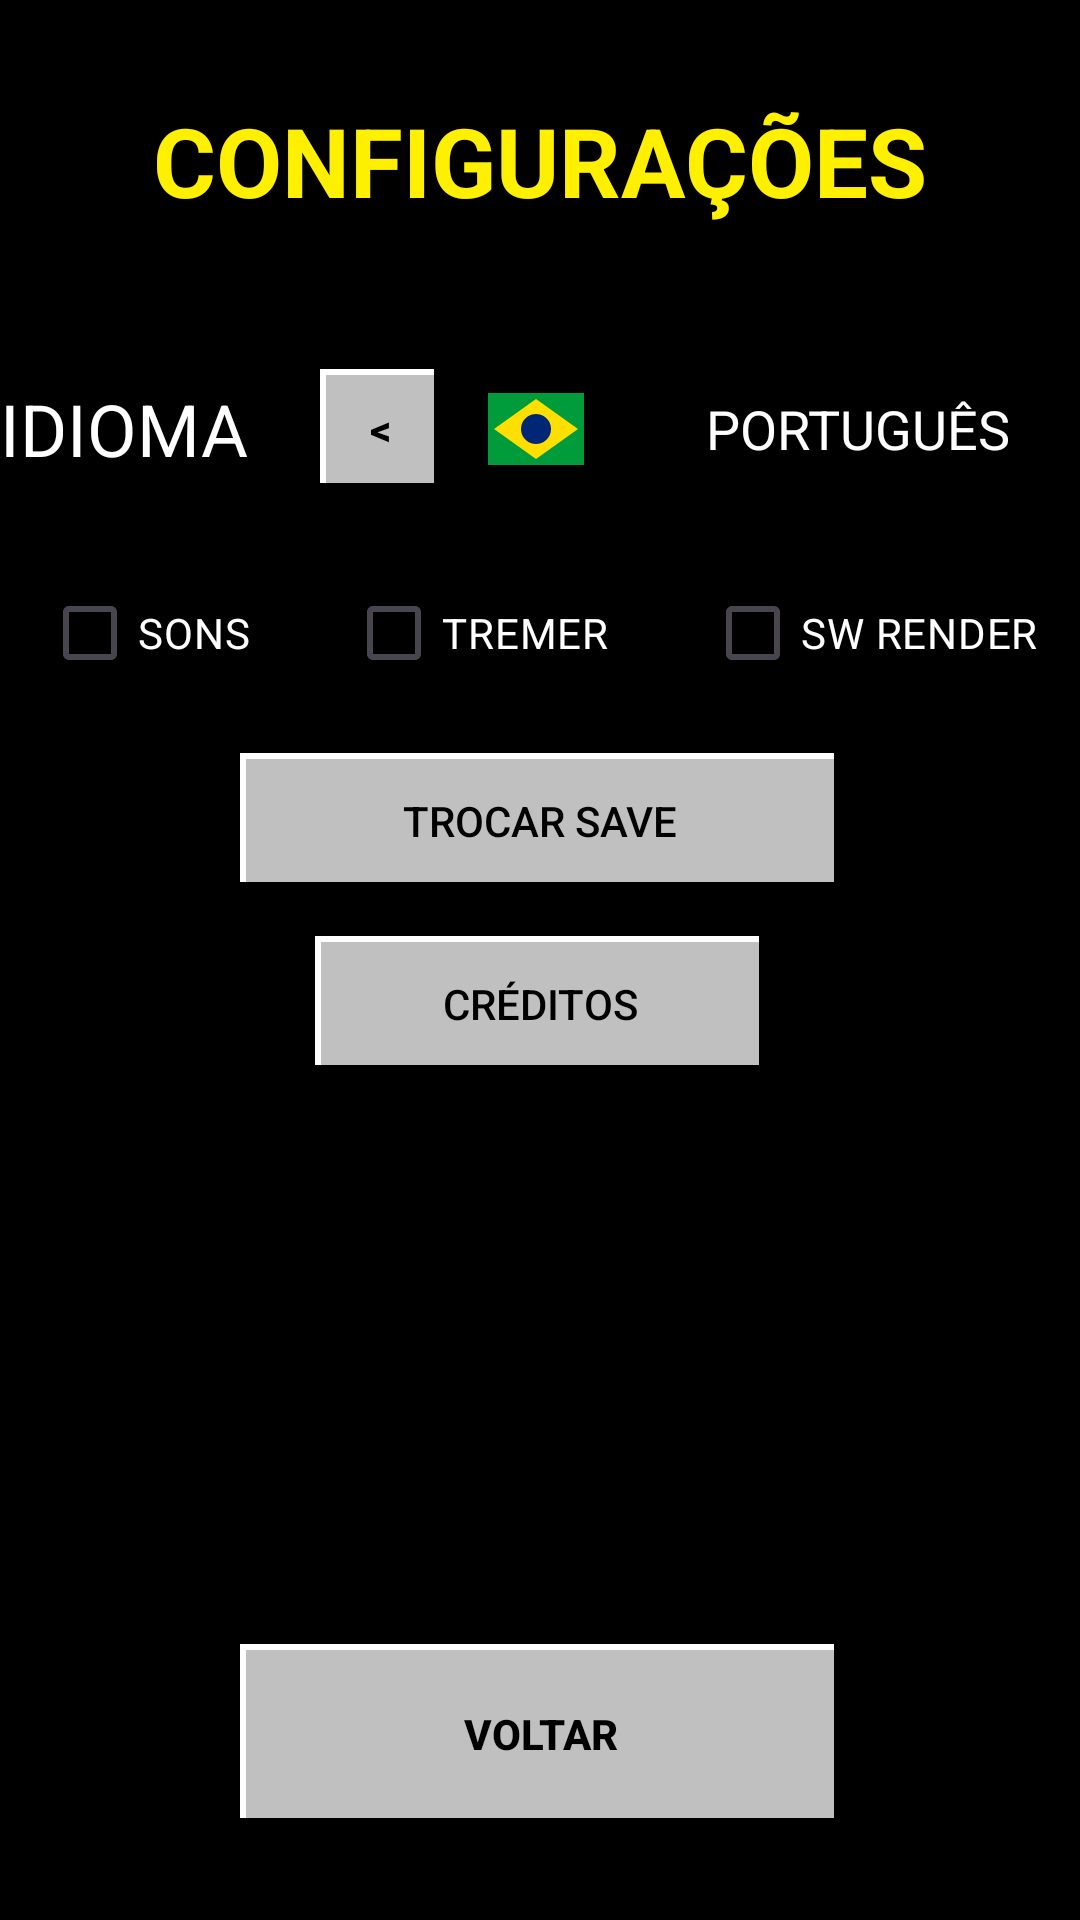

Icons on this 1080px x 1920px Android screen, each with the point to tap as (x,y):
flag br: (536,429)
